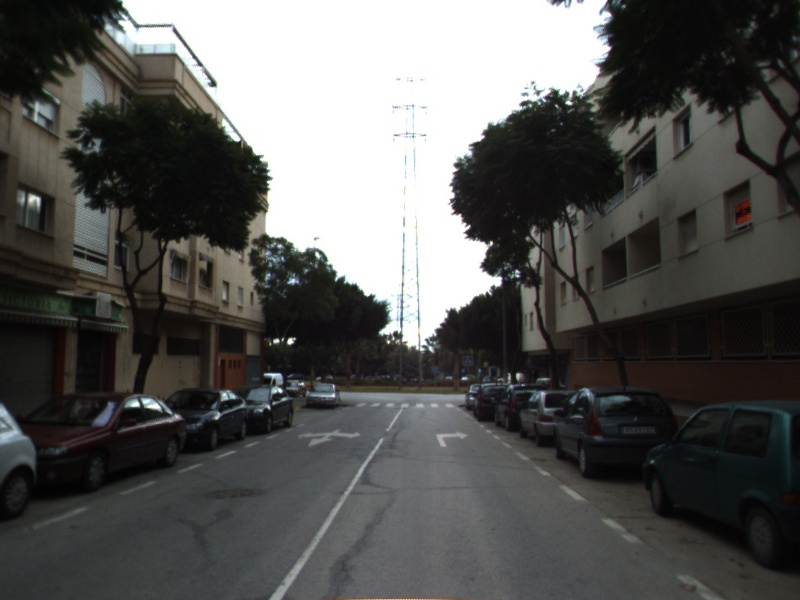RIGHT: (434, 429, 471, 449)
